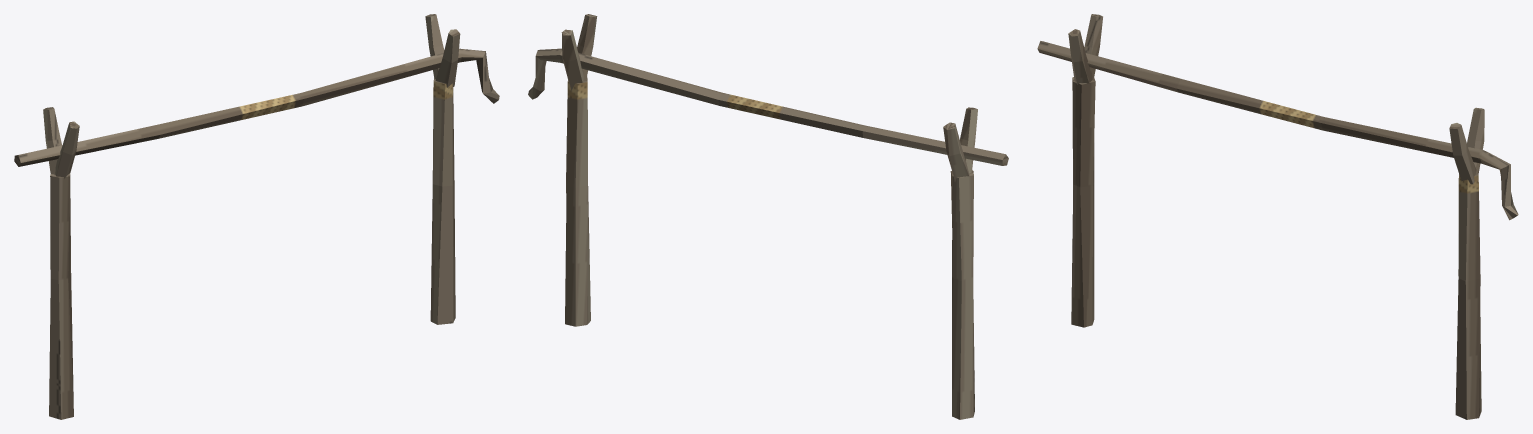
The model's file is roasting_spit.fbx.
3 views of the same model, side by side, from view 1: azimuth 30°, elevation 25°; view 2: azimuth 150°, elevation 25°; view 3: azimuth 330°, elevation 25° (orthographic).
Parts seen in each view (by area): view 1: roasting_spit; view 2: roasting_spit; view 3: roasting_spit.
Part boxes in pixels (x1,y1,x2,y2): roasting_spit: [14, 14, 499, 419]; roasting_spit: [528, 14, 1008, 419]; roasting_spit: [1037, 14, 1518, 419].
Size of the model in its own units: 200 by 119 by 21.11.
